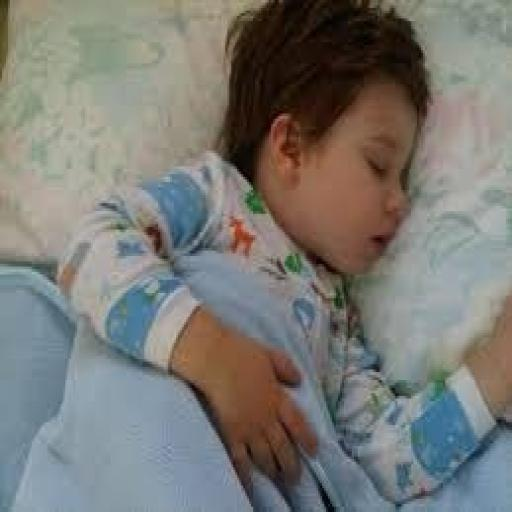sleeping: (53, 0, 509, 509)
